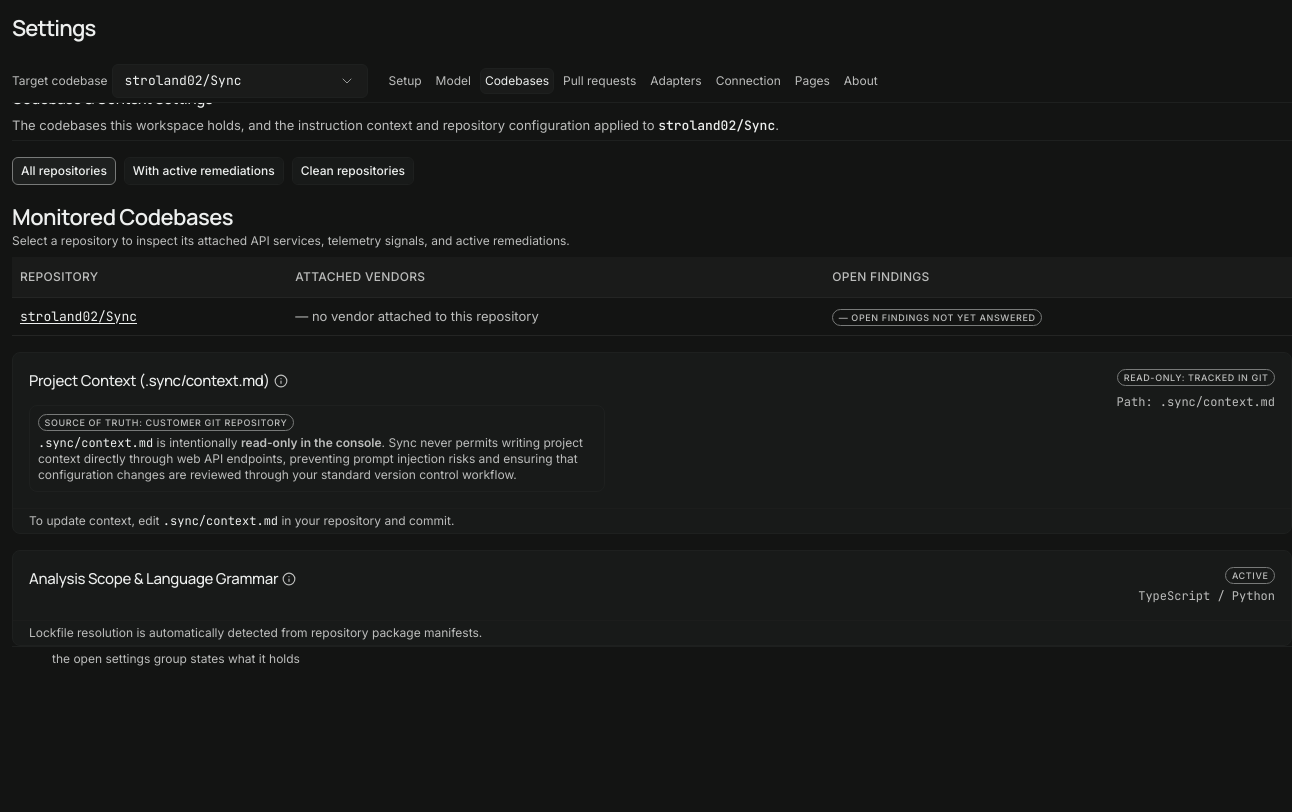
Test: SettingsPage sub-navigation and setting cards › renders About Sync group with platform documentation and explanations
Click the button "About": [861, 81] box [839,68,883,94]
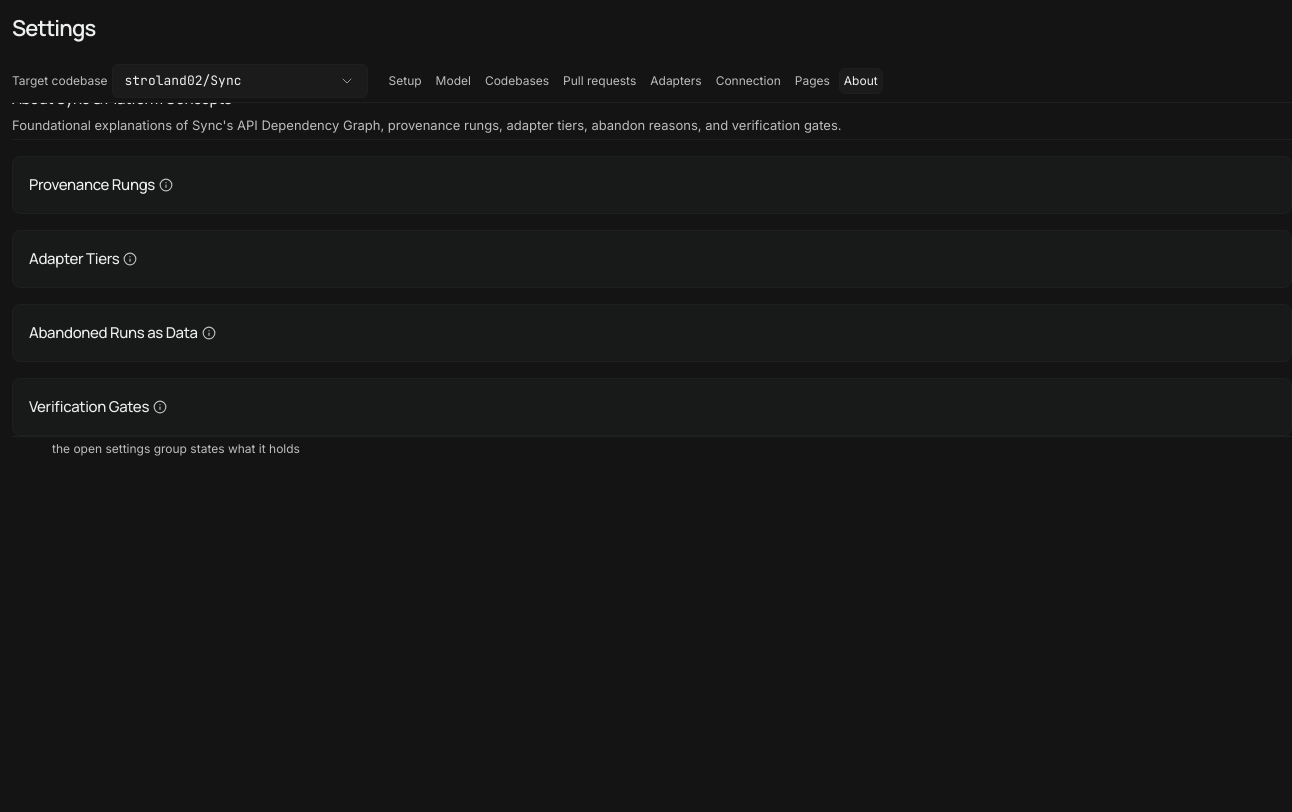
Expected: the heading "About Sync & Platform Concepts" is shown, [12,88,232,109]
Expected: the heading "Provenance Rungs" is shown, [29,173,155,197]
Expected: the heading "Adapter Tiers" is shown, [29,247,119,271]
